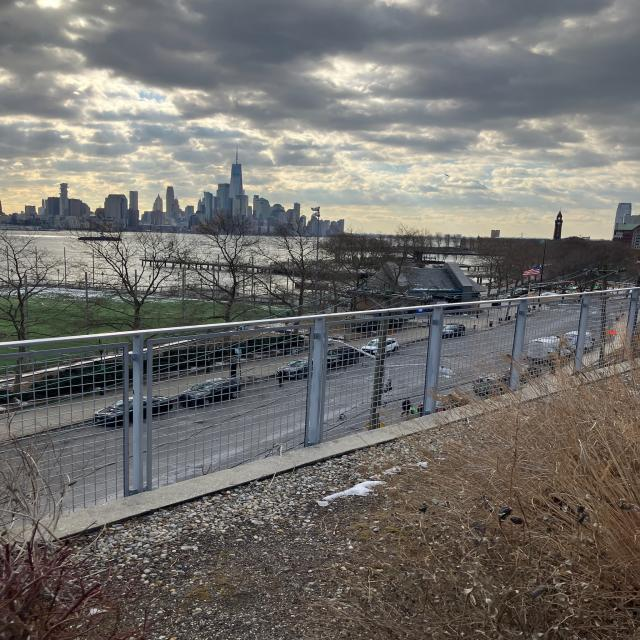WTC: (229, 142, 243, 197)
